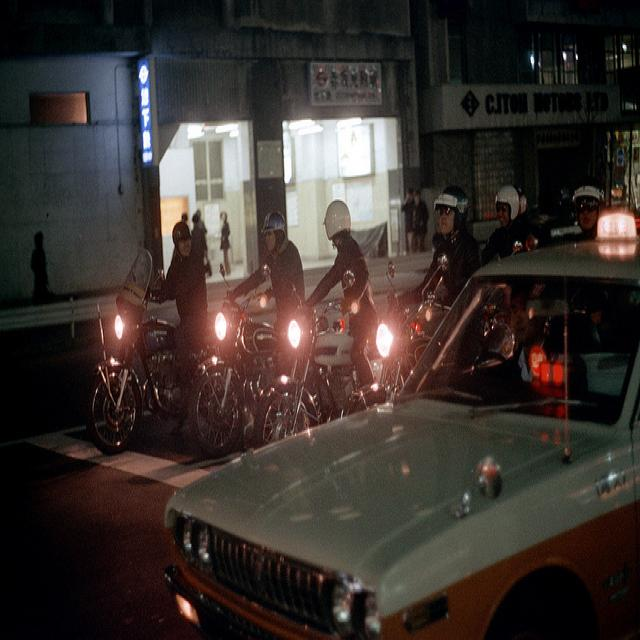Motorbike: (92, 292, 366, 439)
